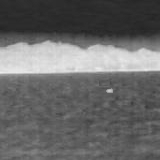Target: (106, 88, 115, 94)
